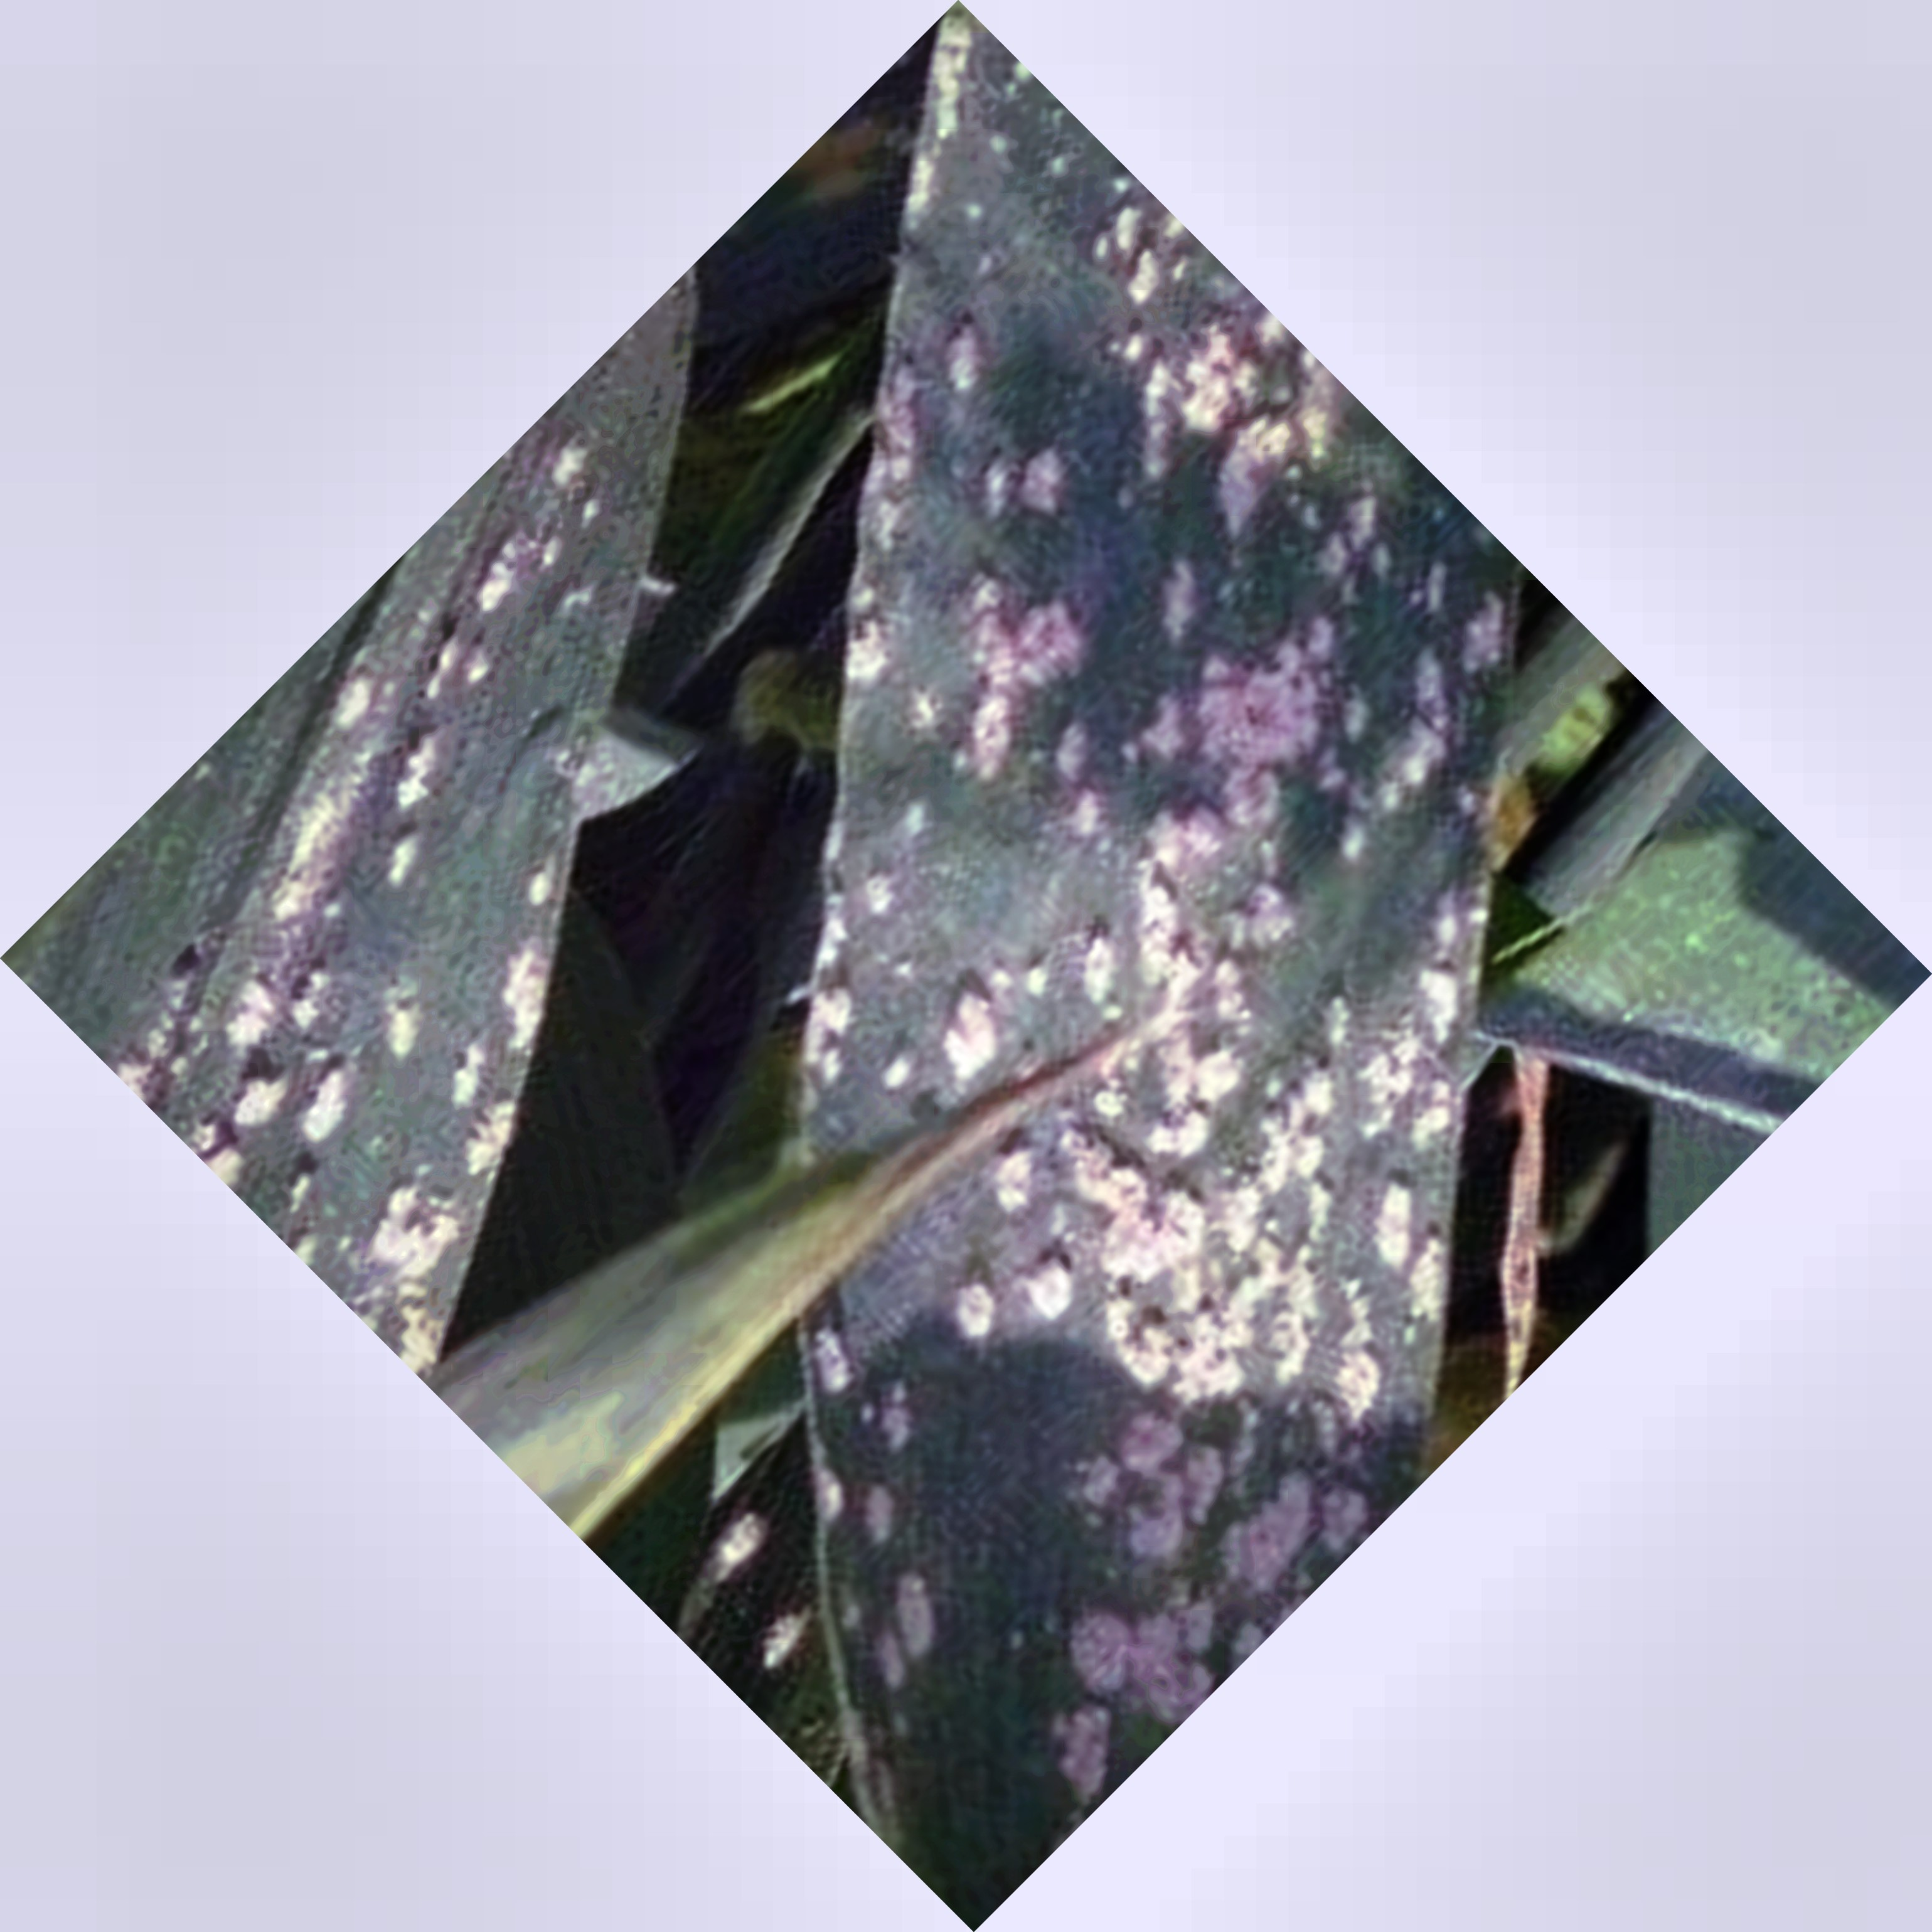Powdery Mildew: (821, 276, 1445, 1698)
